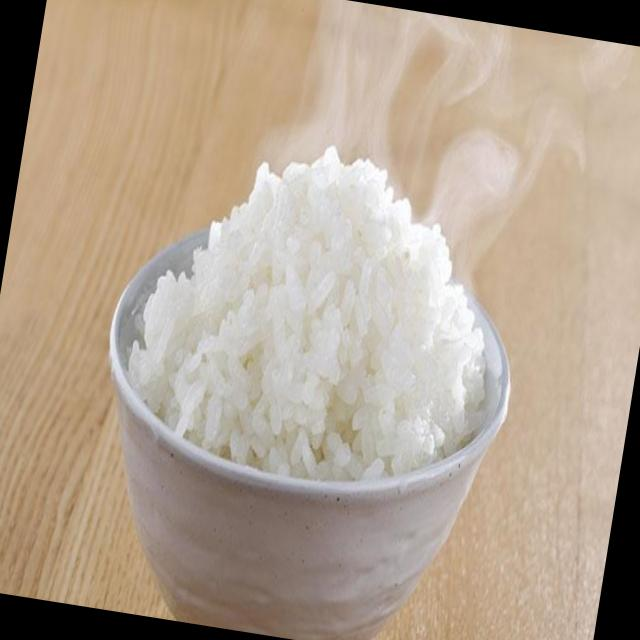rice: (124, 153, 481, 480)
